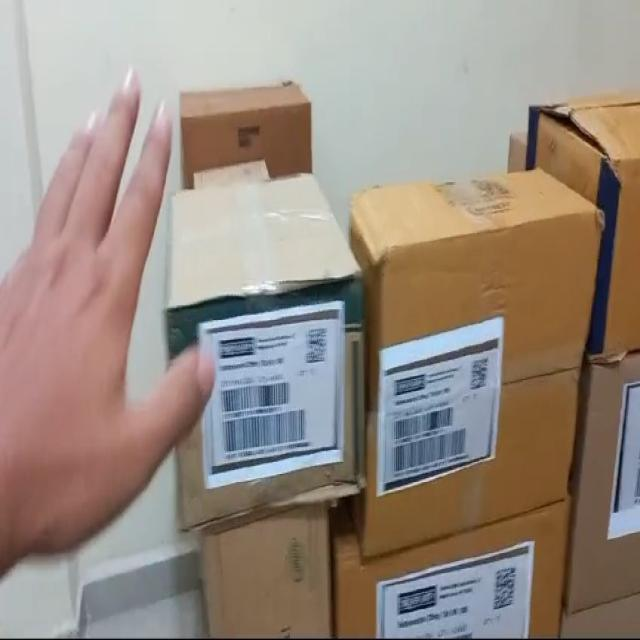BoxFace: (376, 217, 604, 554), (164, 267, 367, 535), (330, 501, 573, 640)
